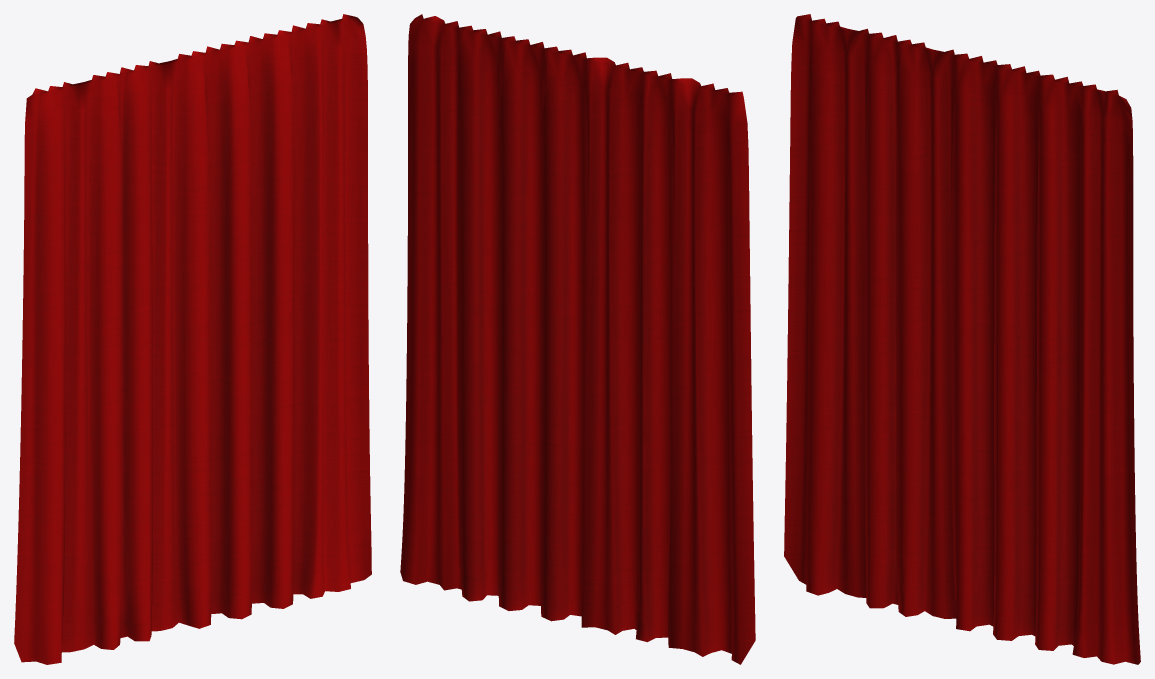
File: curtain2.obj
3 views of the same model, side by side, from view 1: azimuth 30°, elevation 25°; view 2: azimuth 150°, elevation 25°; view 3: azimuth 330°, elevation 25° (orthographic).
Parts seen in each view (by area): view 1: curtain2; view 2: curtain2; view 3: curtain2.
Boxes of the visible parts, left/top/right/bottom form: curtain2: left=14, top=14, right=371, bottom=664; curtain2: left=400, top=14, right=755, bottom=664; curtain2: left=784, top=14, right=1140, bottom=664.
Size of the model in its own units: 2.68 by 4.1 by 0.1814.
1 material, 1 textured.
